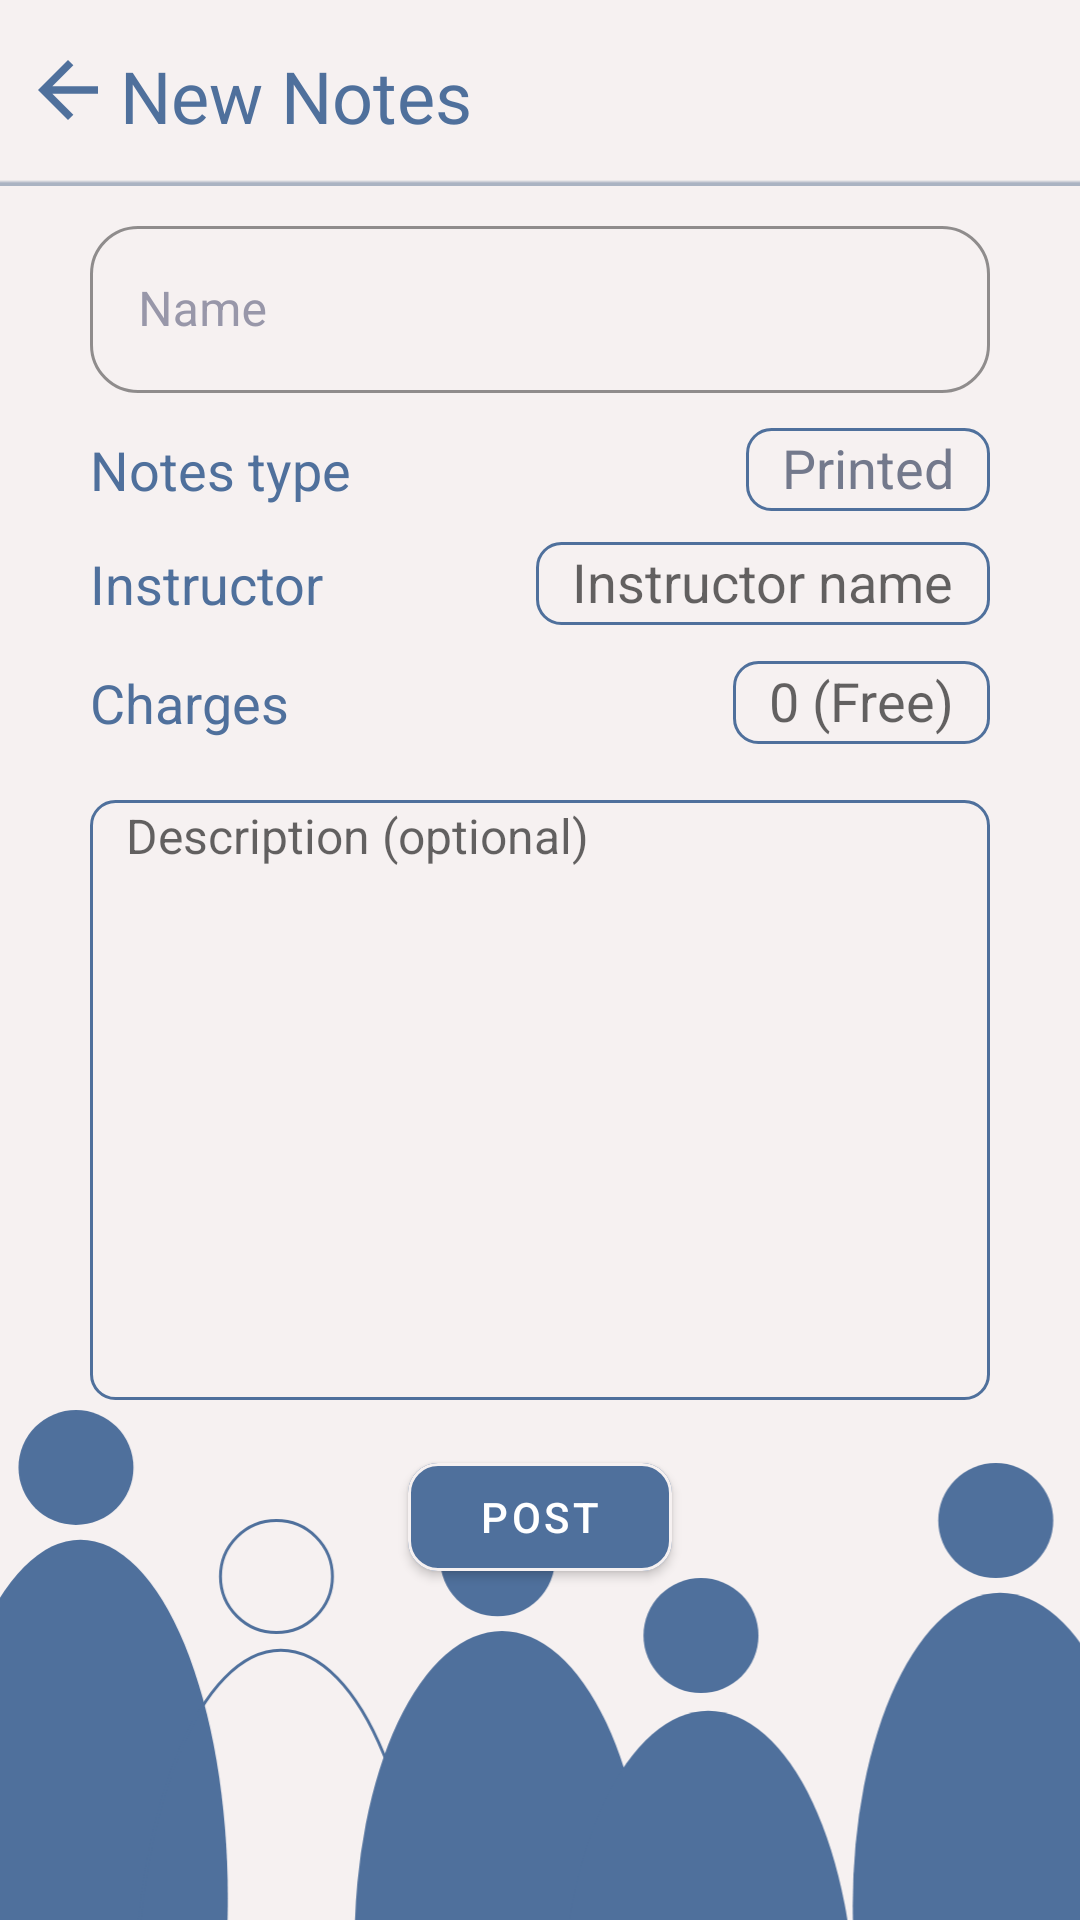

Named icons in this screenshot (1080w x 1920h) and their bounding boxes, (x1, y1, x2, y2):
back: (38, 60, 98, 120)
